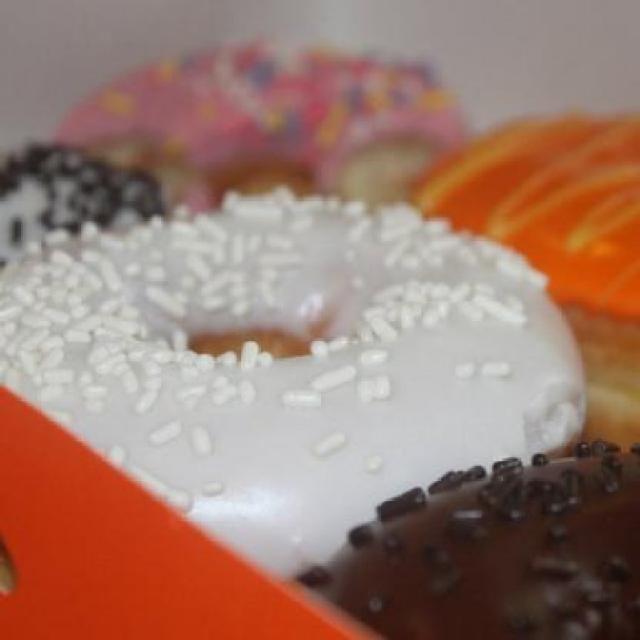Donuts: (3, 38, 640, 640)
